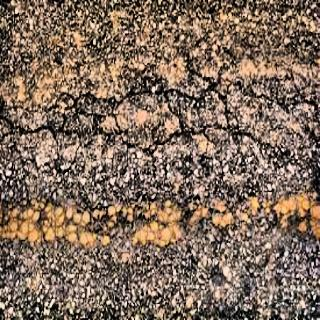alligator-crack: (4, 45, 302, 180)
